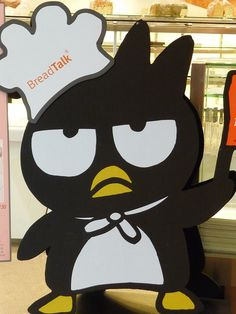batsumaru: (11, 19, 236, 313)
